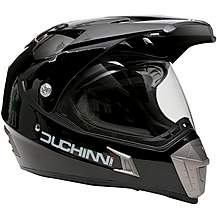with_helmet: (1, 12, 217, 206)
